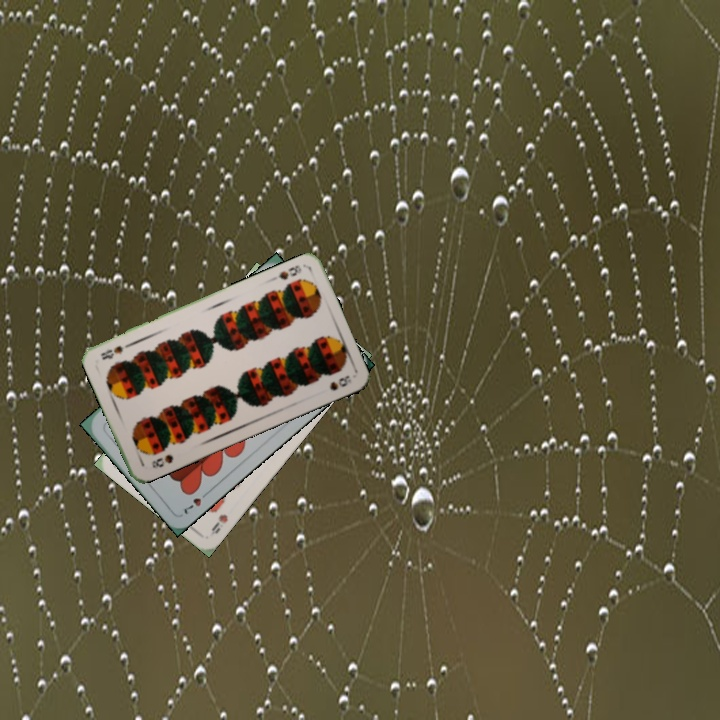H7: (177, 487, 212, 517)
H9: (207, 510, 231, 536)
S8: (274, 261, 304, 283), (147, 450, 176, 471)
